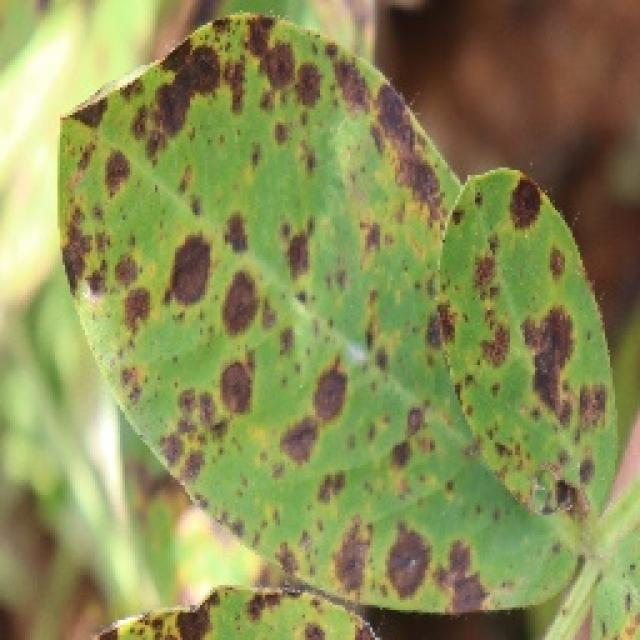Yellowish: (34, 42, 616, 640)
